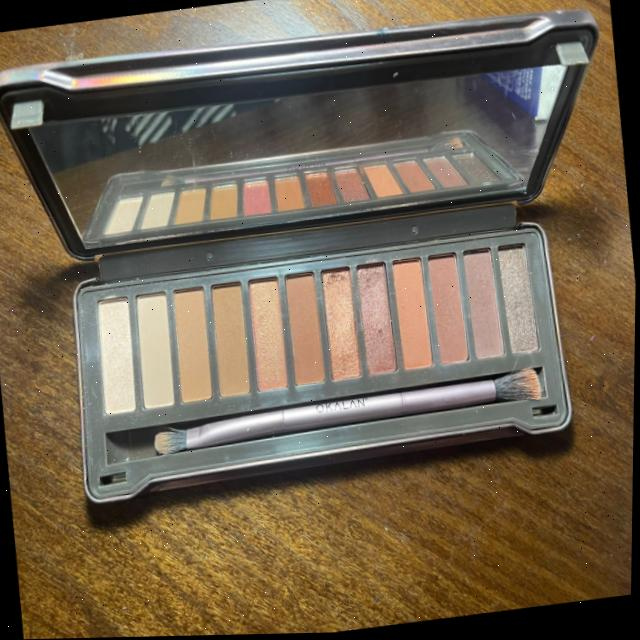eye shade: (72, 218, 564, 437)
